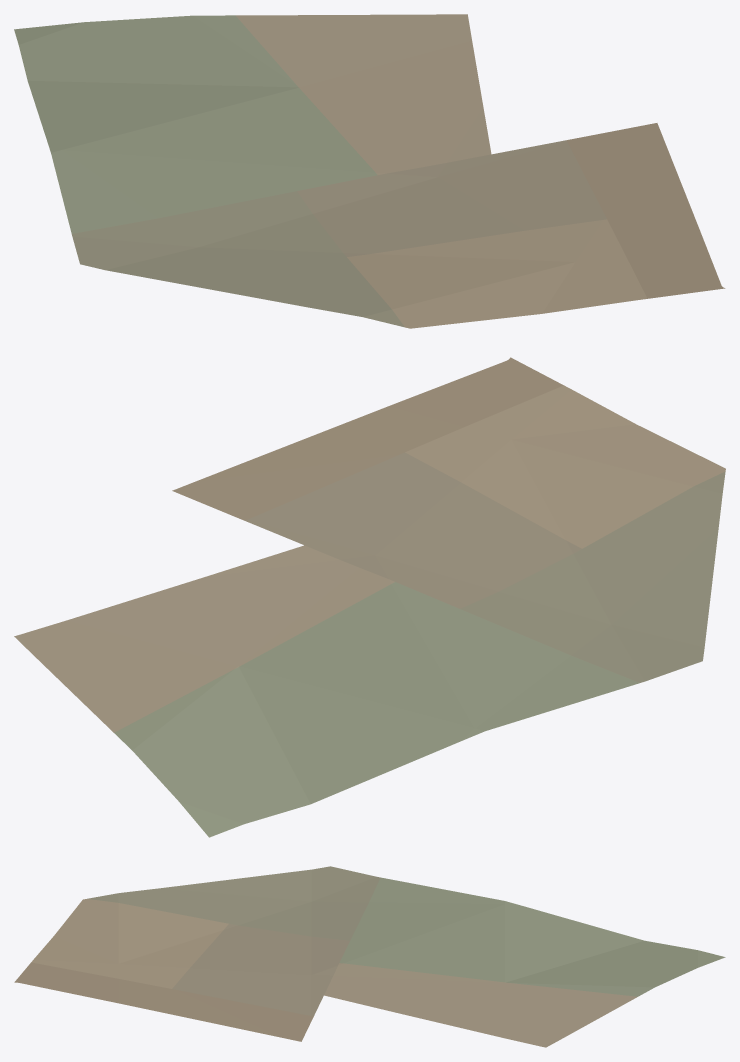
File: farm_6_1_soil.glb
The picture shows the model from 3 angles, top to bottom: view 1: azimuth 30°, elevation 25°; view 2: azimuth 150°, elevation 25°; view 3: azimuth 270°, elevation 25°; orthographic projection. The views are drawn at different scales.
Parts seen in each view (by area): view 1: geometry_0; view 2: geometry_0; view 3: geometry_0.
Part boxes in pixels (<box>): geometry_0: <box>14,14,725,328</box>; geometry_0: <box>14,357,725,837</box>; geometry_0: <box>14,866,725,1047</box>.
Bounding box in the file's own units: 187 × 20.2 × 295.
